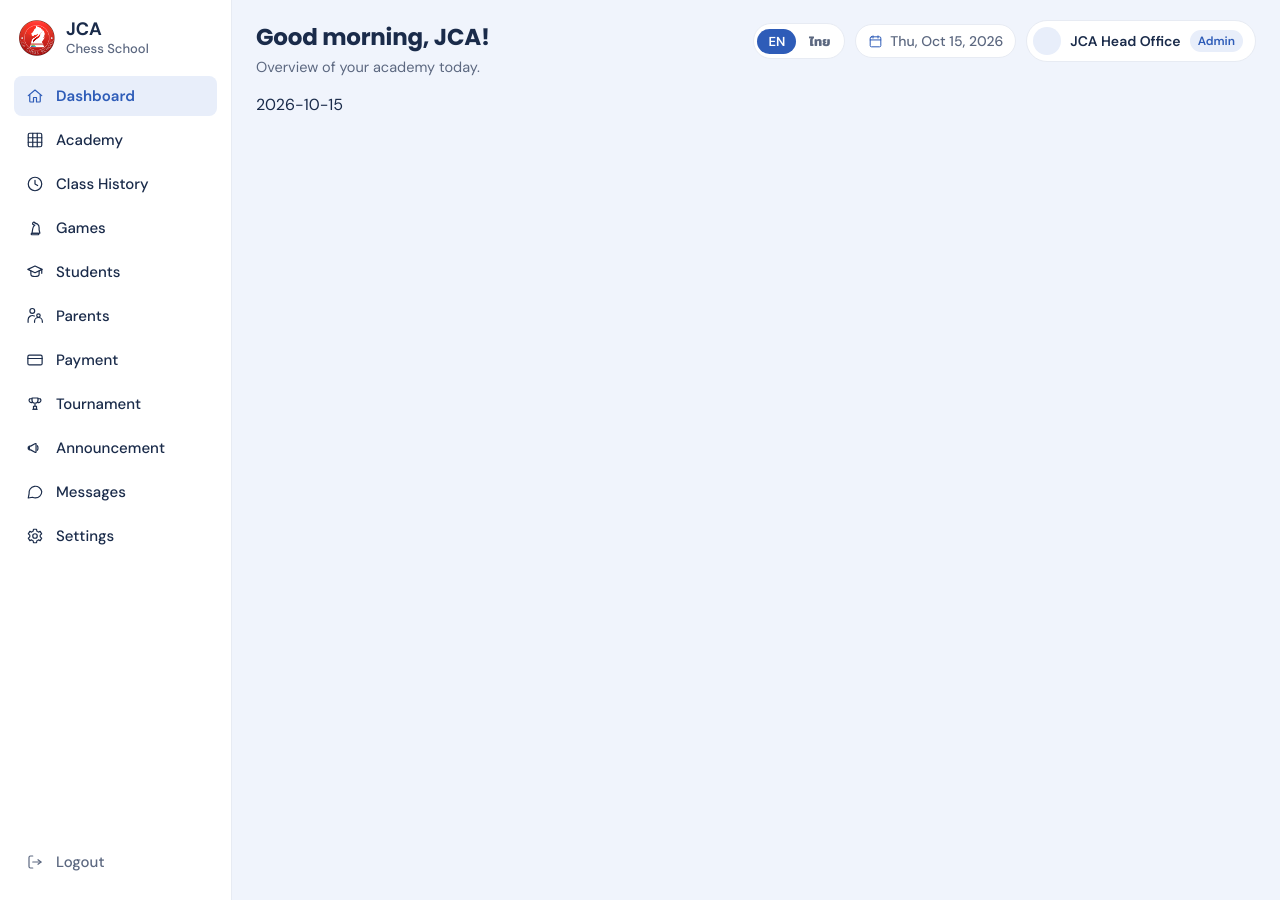
Test: the date chip › moves the dashboard to the day picked, and back with Today
The image size is (1280, 900).
Step 1. Type "2026-01-15" into the date field named "Dashboard date" → (936, 41), box [855,24,1016,58]
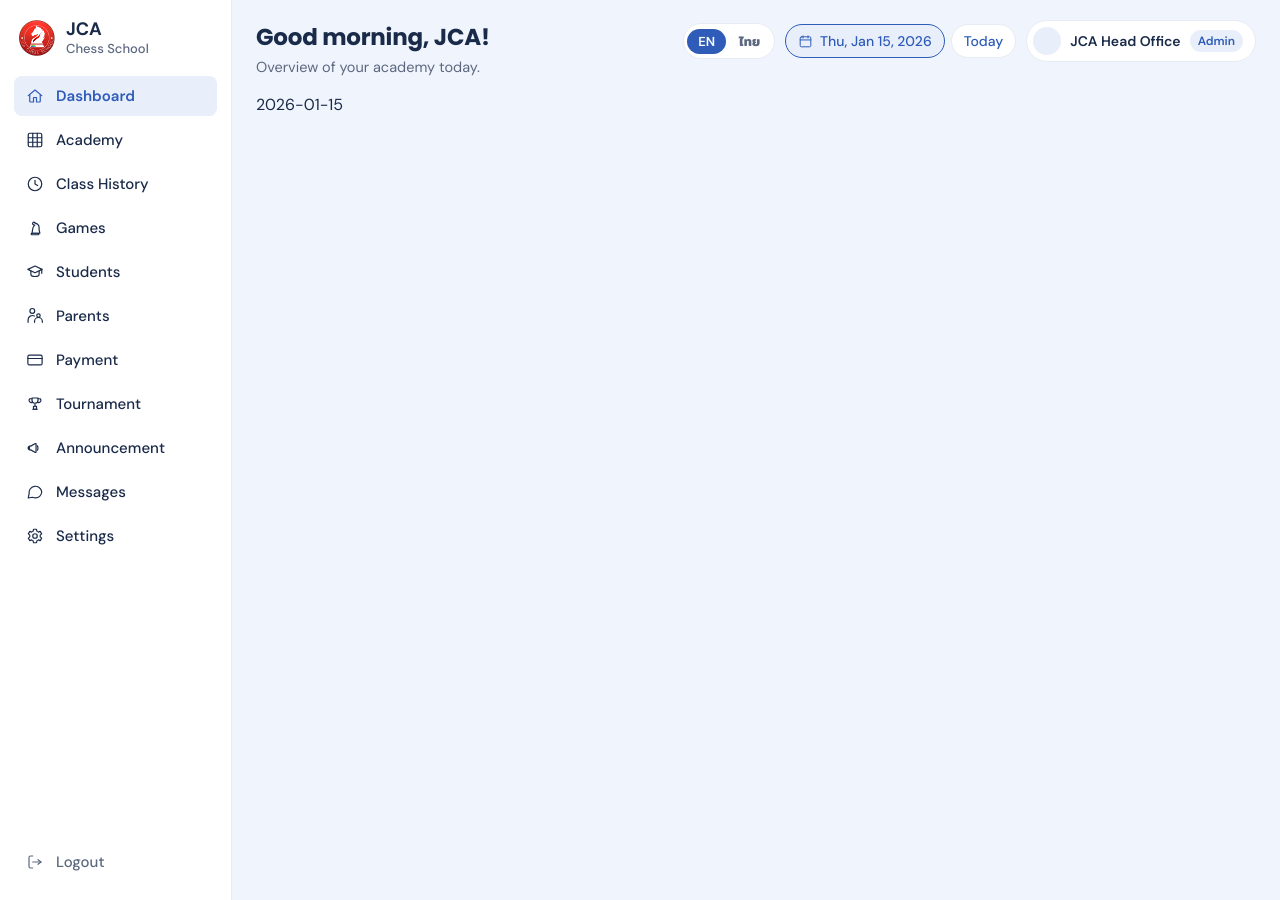
Expected: the text named "shown day" reads "2026-01-15", [256,94,343,115]
Step 2. Click the button "Today" → (984, 41), box [951,24,1016,58]
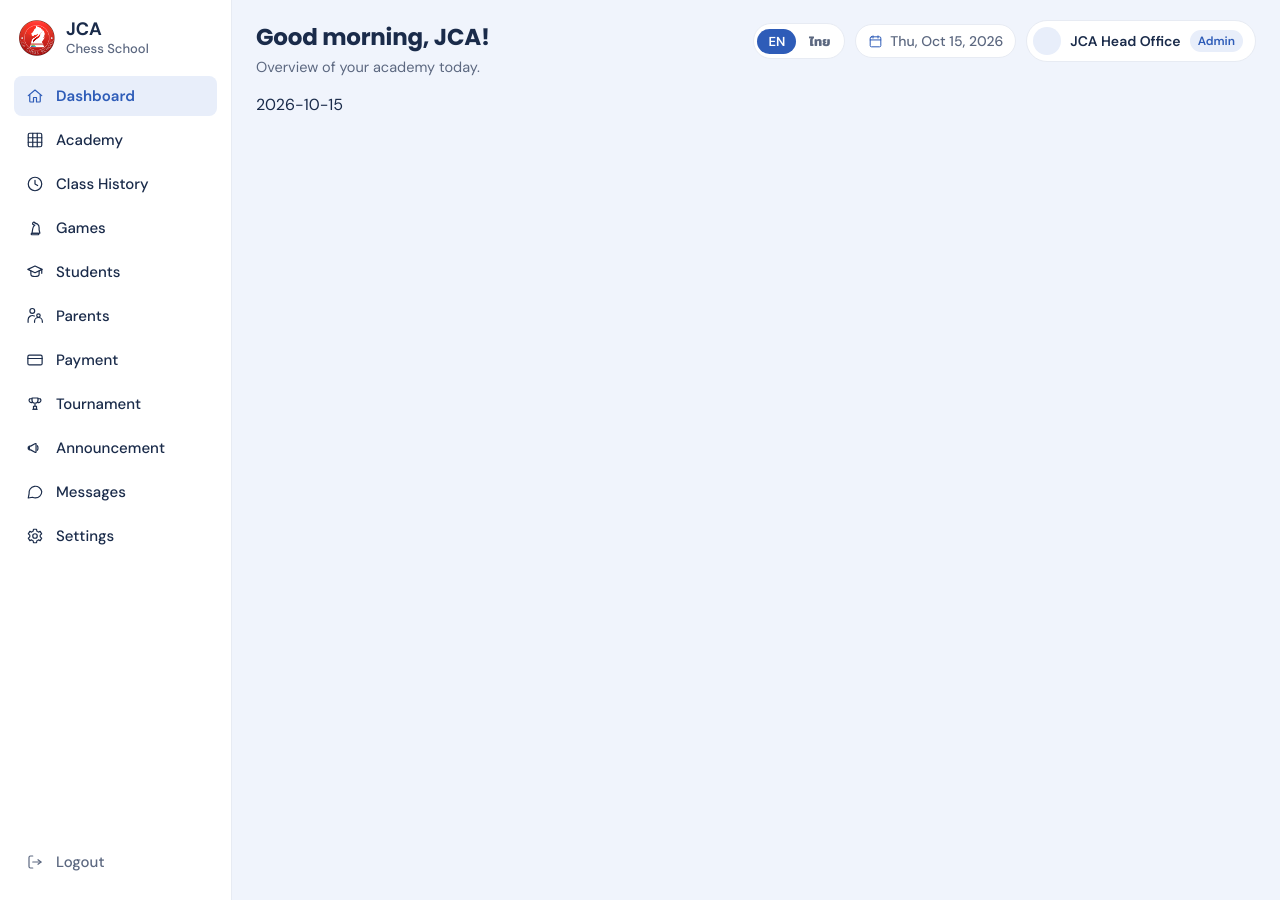
Expected: the text labelled "shown day" no longer shows "2026-01-15"
